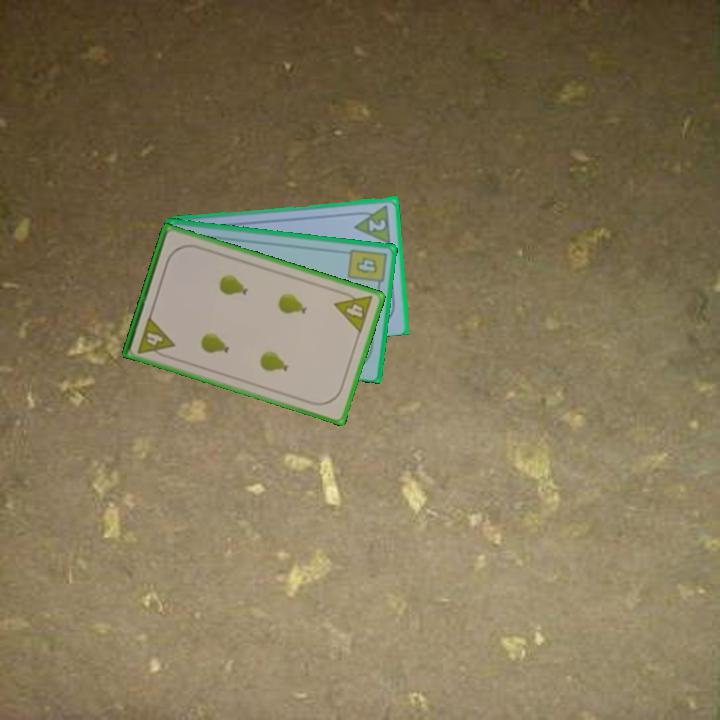2p: (350, 201, 394, 245)
4b: (344, 245, 389, 291)
4p: (331, 286, 376, 336), (134, 312, 177, 361)
